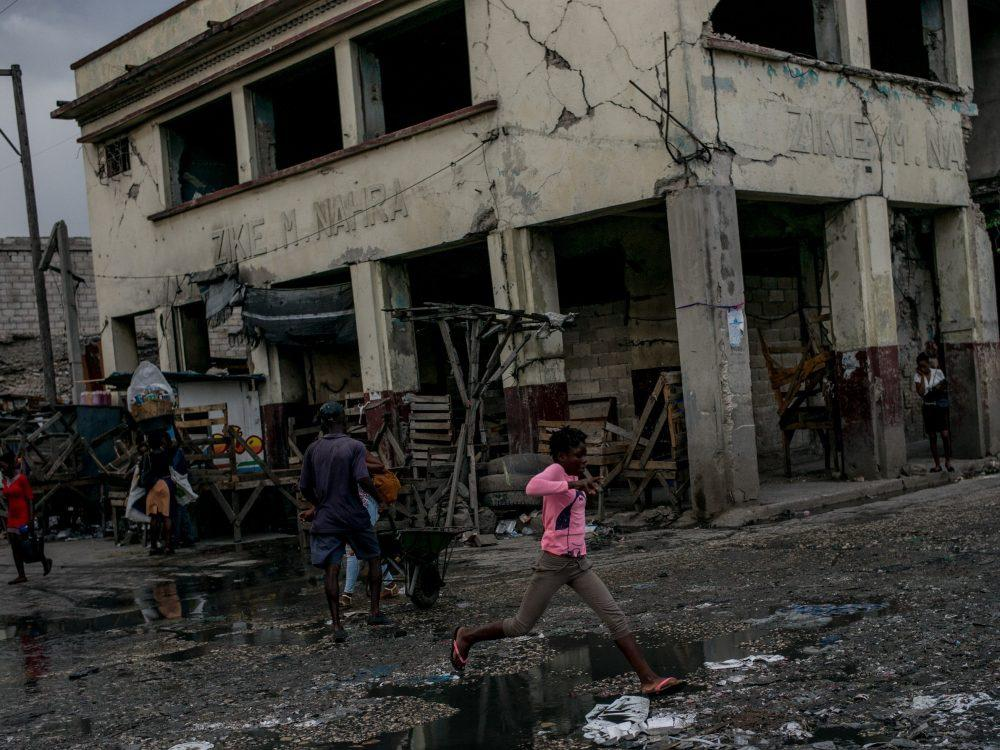victim: (444, 419, 684, 708), (296, 398, 395, 638), (0, 449, 56, 591), (910, 352, 962, 478)
